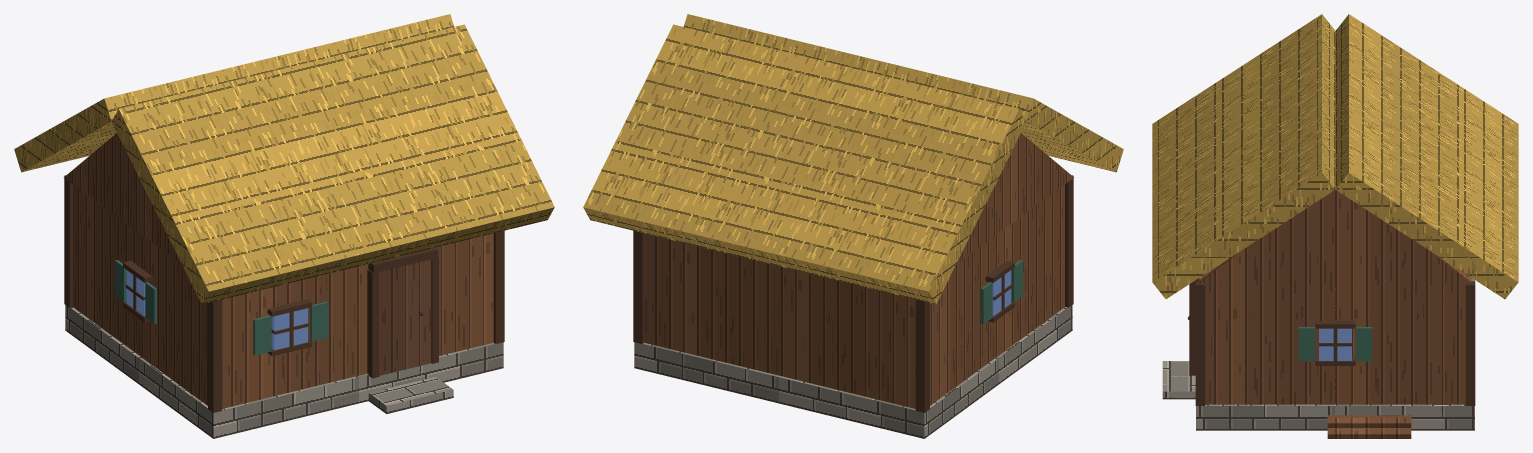
Rendered from house_c.glb.
3 renders of one model, left to right at view 1: azimuth 30°, elevation 25°; view 2: azimuth 150°, elevation 25°; view 3: azimuth 270°, elevation 25°, orthographic. The views are drawn at different scales.
Parts seen in each view (by area): view 1: House_C; view 2: House_C; view 3: House_C.
Part boxes in pixels (bbox=[...]): House_C: bbox=[14, 14, 554, 438]; House_C: bbox=[583, 14, 1123, 438]; House_C: bbox=[1152, 14, 1518, 438].
Bounding box in the file's own units: 6.2 × 4.93 × 6.04.
Materials: 17 (13 with a texture image).
